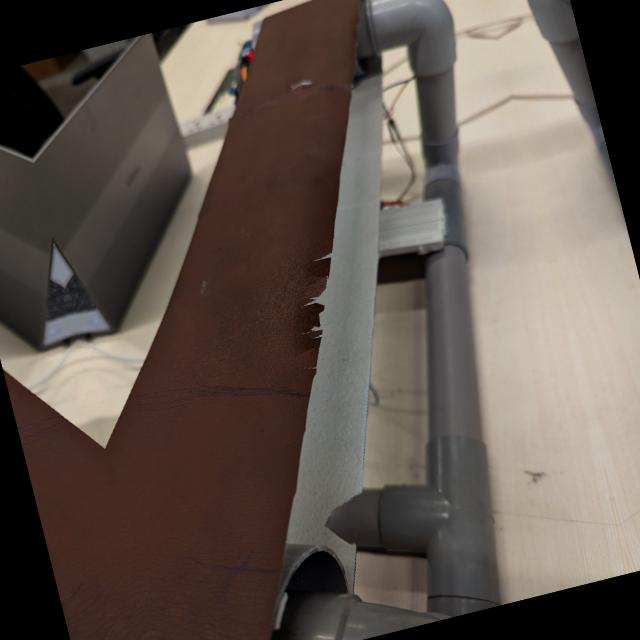edge_damage: (257, 237, 368, 385)
joint_damage: (280, 67, 319, 96)
